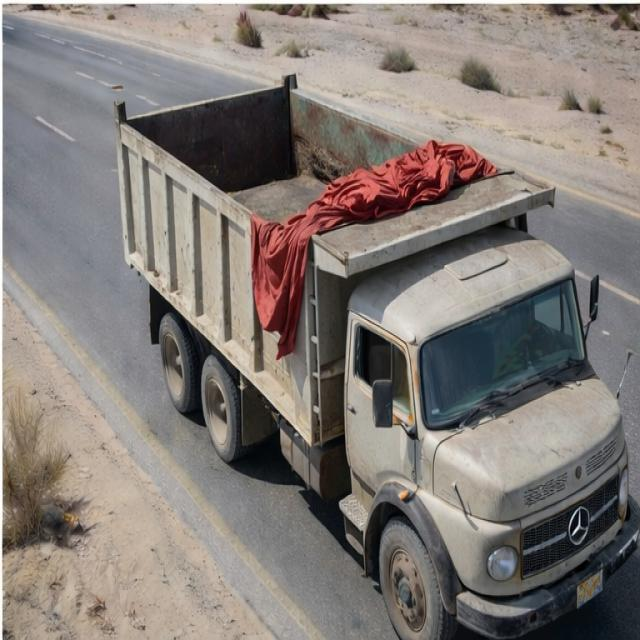trailer: (110, 67, 560, 281)
truck: (66, 31, 640, 636)
